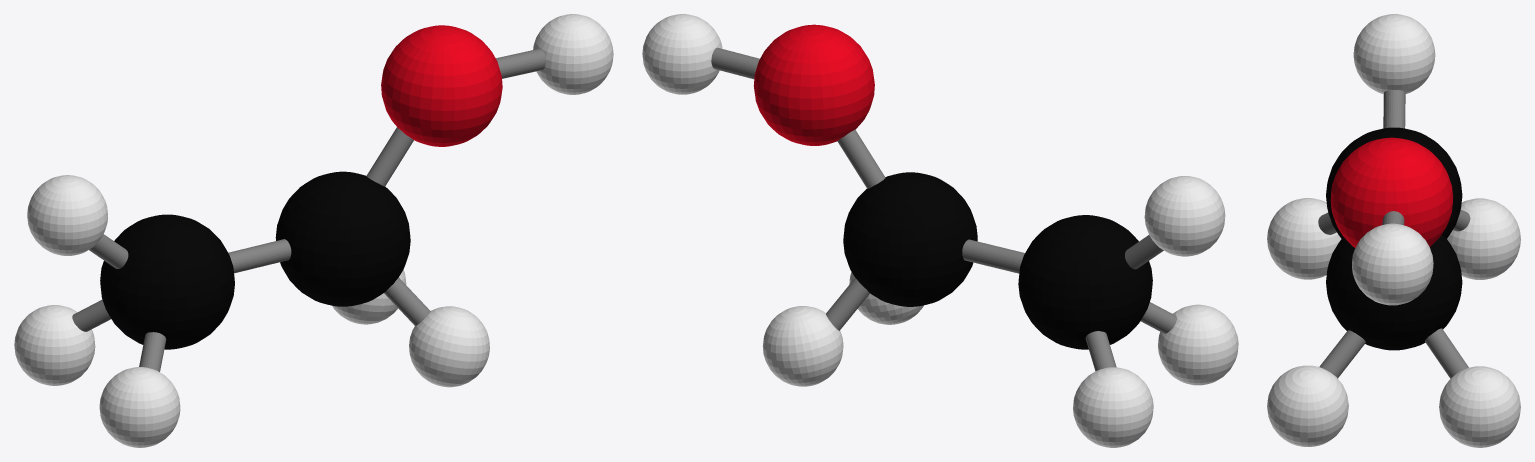
3 views of the same model, side by side, from view 1: azimuth 30°, elevation 25°; view 2: azimuth 150°, elevation 25°; view 3: azimuth 270°, elevation 25° (orthographic).
Visible parts, largest first — view 1: углерод 1, Sphere, кислород двойной.001, Sphere.003, Sphere.001, Sphere.004, Sphere.002, водорд 4, Cylinder.002, Cylinder.006, Sphere.005, Cylinder.008 (+4 smaller); view 2: углерод 1, Sphere, кислород двойной.001, Sphere.002, Sphere.003, Sphere.005, Sphere.001, водорд 4, Cylinder.002, Cylinder.006, Sphere.004, Cylinder.009 (+4 smaller); view 3: кислород двойной.001, углерод 1, водорд 4, Sphere.005, Sphere.004, Sphere.003, Sphere.001, Sphere.002, Sphere, Cylinder.009, Cylinder.008, Cylinder.005 (+2 smaller).
Part boxes in pixels (<box>): углерод 1: <box>275,171,410,306</box>; Sphere: <box>100,214,234,349</box>; кислород двойной.001: <box>381,25,502,146</box>; Sphere.003: <box>27,175,107,255</box>; Sphere.001: <box>99,367,180,447</box>; Sphere.004: <box>409,306,489,387</box>; Sphere.002: <box>14,305,95,385</box>; водорд 4: <box>533,14,613,94</box>; Cylinder.002: <box>228,239,291,273</box>; Cylinder.006: <box>366,127,413,186</box>; Sphere.005: <box>332,270,406,324</box>; Cylinder.008: <box>384,277,430,326</box>; углерод 1: <box>843,172,977,306</box>; Sphere: <box>1018,215,1152,349</box>; кислород двойной.001: <box>753,24,874,145</box>; Sphere.002: <box>1073,367,1153,447</box>; Sphere.003: <box>1144,176,1225,256</box>; Sphere.005: <box>762,306,843,386</box>; Sphere.001: <box>1158,304,1238,385</box>; водорд 4: <box>642,14,722,94</box>; Cylinder.002: <box>962,239,1024,273</box>; Cylinder.006: <box>837,129,885,188</box>; Sphere.004: <box>849,272,923,324</box>; Cylinder.009: <box>826,278,869,330</box>; кислород двойной.001: <box>1330,137,1453,247</box>; углерод 1: <box>1326,234,1462,350</box>; водорд 4: <box>1352,223,1433,305</box>; Sphere.005: <box>1439,366,1520,447</box>; Sphere.004: <box>1267,365,1348,446</box>; Sphere.003: <box>1353,14,1435,94</box>; Sphere.001: <box>1267,198,1341,279</box>; Sphere.002: <box>1447,198,1520,279</box>; Sphere: <box>1326,127,1462,238</box>; Cylinder.009: <box>1425,328,1468,378</box>; Cylinder.008: <box>1319,330,1365,378</box>; Cylinder.005: <box>1383,90,1405,128</box>.
Size of the model in its own units: 4.91 by 2.56 by 1.86.
